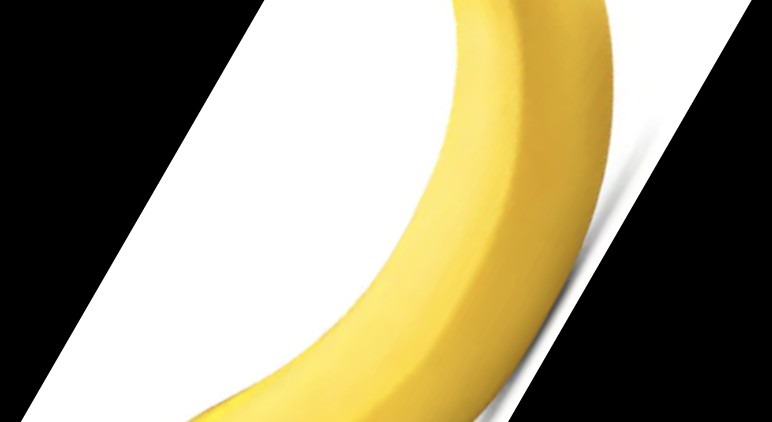fresh_banana: (184, 1, 613, 422)
